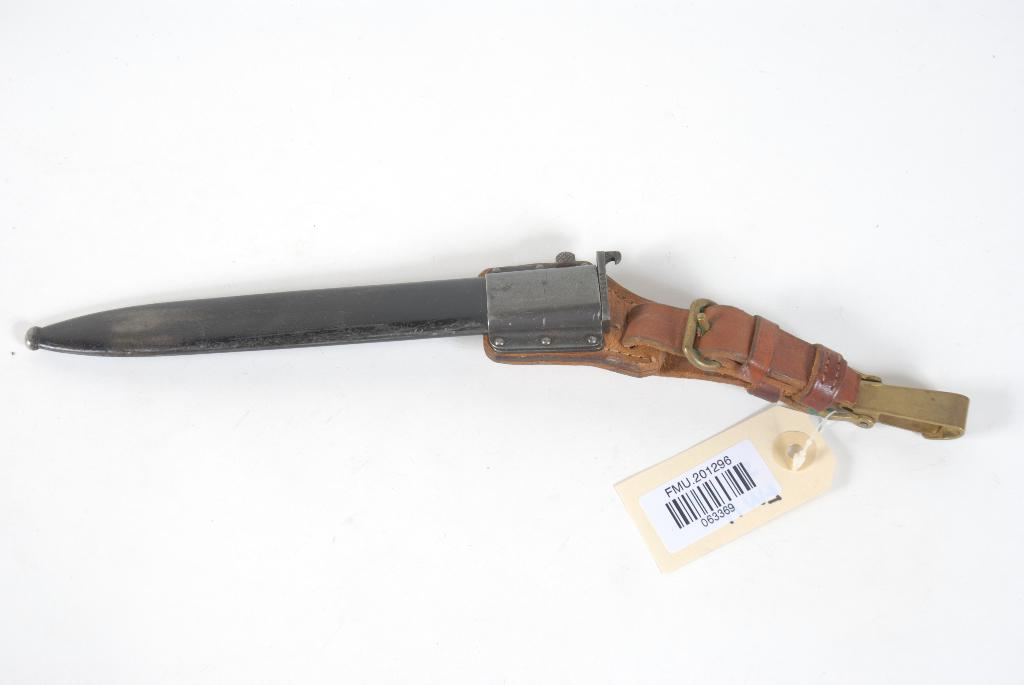knife: (24, 250, 969, 440)
